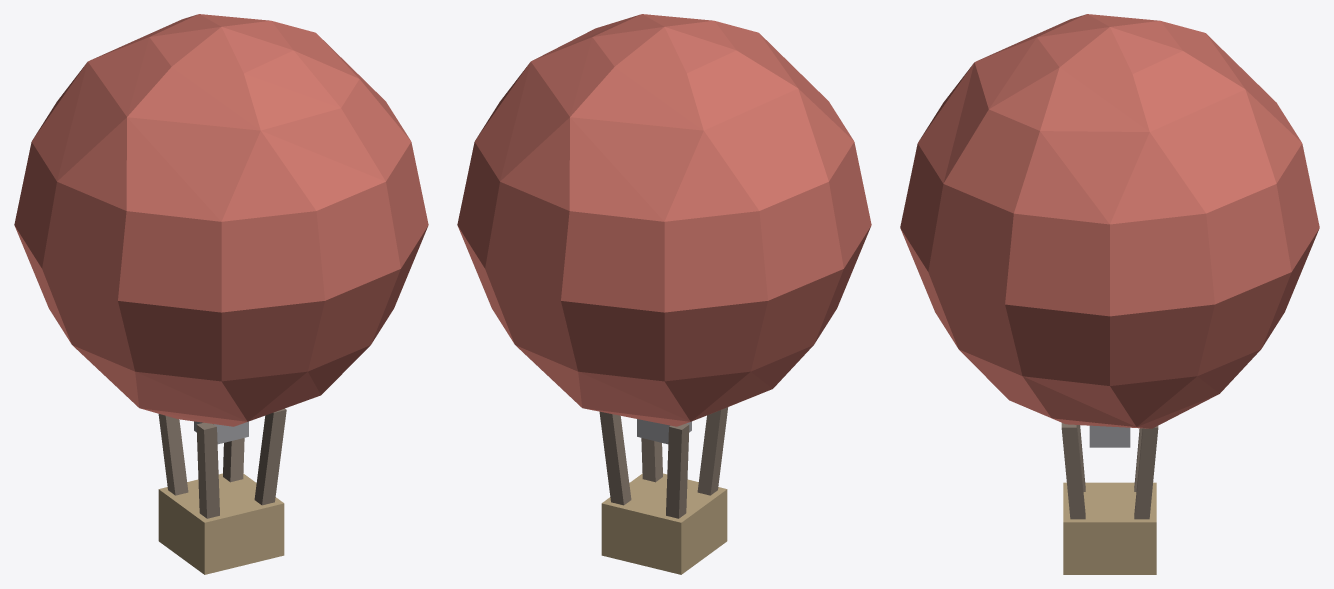
The picture shows the model from 3 angles, left to right: view 1: azimuth 30°, elevation 25°; view 2: azimuth 150°, elevation 25°; view 3: azimuth 270°, elevation 25°; orthographic projection.
Parts seen in each view (by area): view 1: part0, part1, part3, part2, part5, part4, part6; view 2: part0, part1, part5, part4, part2, part3, part6; view 3: part0, part1, part3, part4, part6.
Part boxes in pixels (bbox=[...]): part0: bbox=[14, 14, 428, 426]; part1: bbox=[158, 473, 284, 574]; part3: bbox=[254, 408, 286, 505]; part2: bbox=[196, 422, 219, 518]; part5: bbox=[158, 414, 188, 495]; part4: bbox=[223, 438, 244, 482]; part6: bbox=[194, 421, 248, 444]; part0: bbox=[457, 14, 871, 426]; part1: bbox=[601, 473, 727, 574]; part5: bbox=[666, 423, 689, 518]; part4: bbox=[599, 411, 631, 505]; part2: bbox=[697, 407, 728, 495]; part3: bbox=[641, 438, 662, 482]; part6: bbox=[637, 419, 691, 444]; part0: bbox=[900, 14, 1319, 428]; part1: bbox=[1063, 482, 1156, 574]; part3: bbox=[1061, 423, 1085, 519]; part4: bbox=[1134, 426, 1158, 519]; part6: bbox=[1089, 425, 1130, 447].
Bounding box in the file's own units: 2.59 × 3.6 × 2.59.
